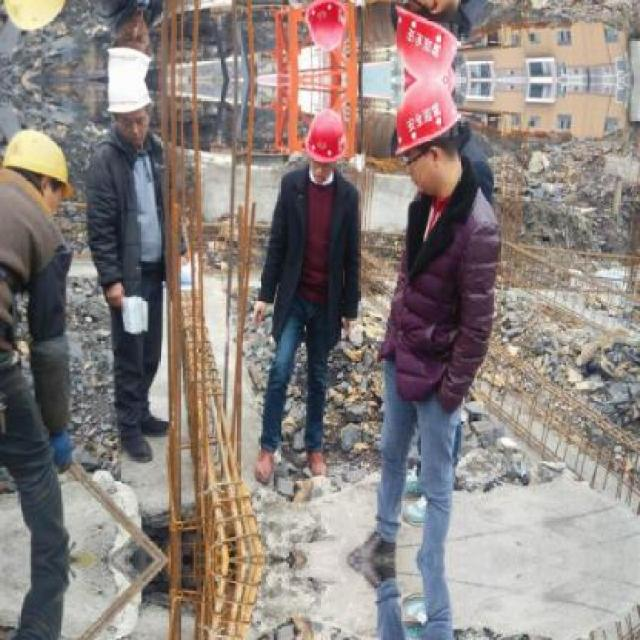helmet: (393, 82, 465, 195), (3, 128, 71, 220), (392, 0, 466, 78), (101, 81, 154, 144), (101, 16, 154, 79), (307, 104, 348, 184), (306, 0, 349, 57), (3, 0, 72, 34)
